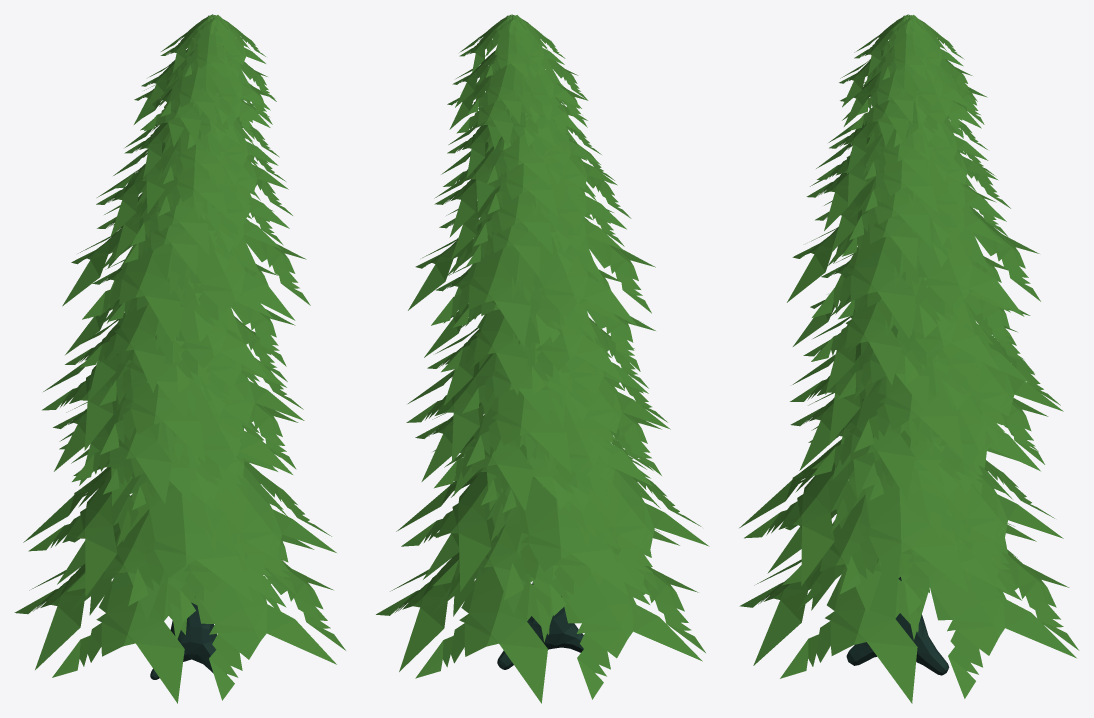
Rendered from tree_01.gltf.
3 views of the same model, side by side, from view 1: azimuth 30°, elevation 25°; view 2: azimuth 150°, elevation 25°; view 3: azimuth 270°, elevation 25° (orthographic). The views are drawn at different scales.
Visible parts, largest first — view 1: Cube.003, Cube.004; view 2: Cube.003, Cube.004; view 3: Cube.003, Cube.004.
Boxes of the visible parts, x1,y1,x2,y2 form: Cube.003: (14,14,345,703); Cube.004: (150,597,216,679); Cube.003: (376,14,709,703); Cube.004: (497,16,583,669); Cube.003: (739,14,1079,703); Cube.004: (846,577,949,675).
Bounding box in the file's own units: 6.16 × 12.25 × 5.73.
1 material, 1 textured.
